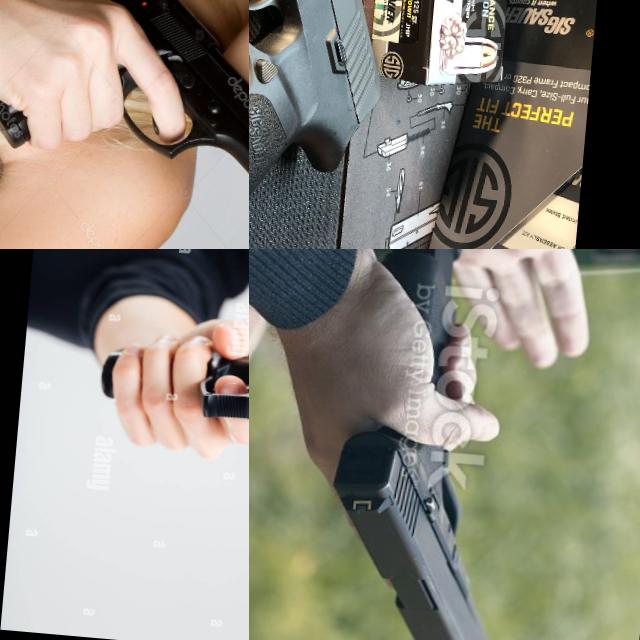handgun: (310, 407, 513, 640), (249, 0, 422, 249), (72, 0, 249, 237), (188, 334, 249, 469)
